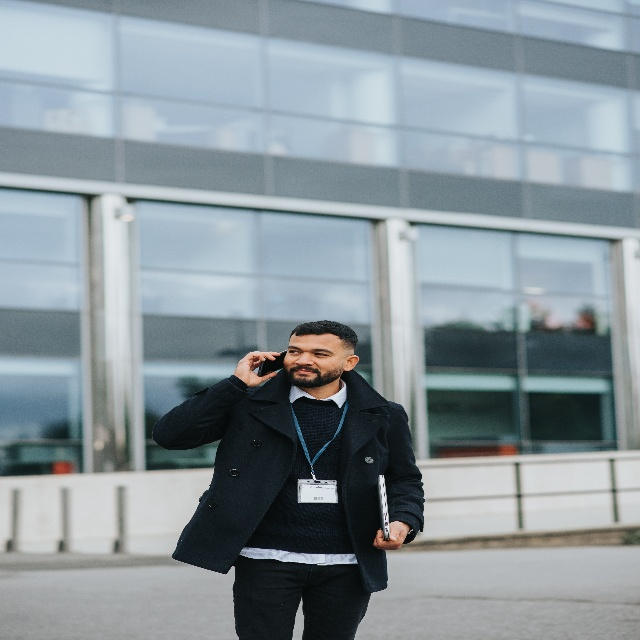Sin_guantes: (236, 348, 281, 387), (371, 524, 408, 551)
